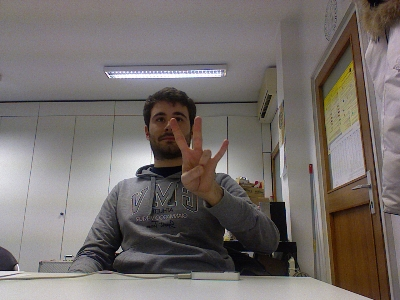观音: (168, 114, 230, 196)
